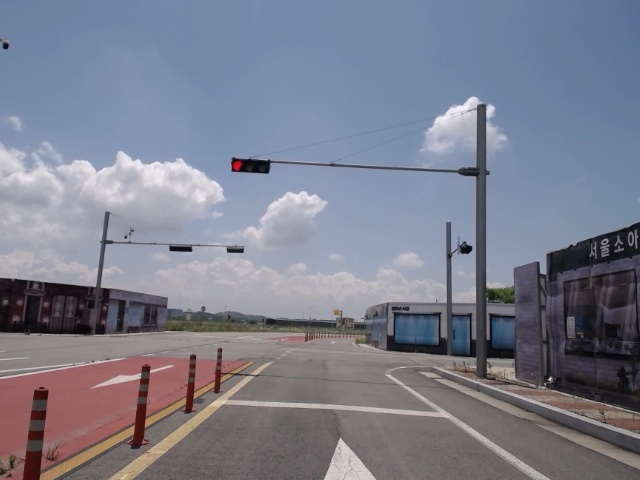red_3: (230, 154, 272, 175)
